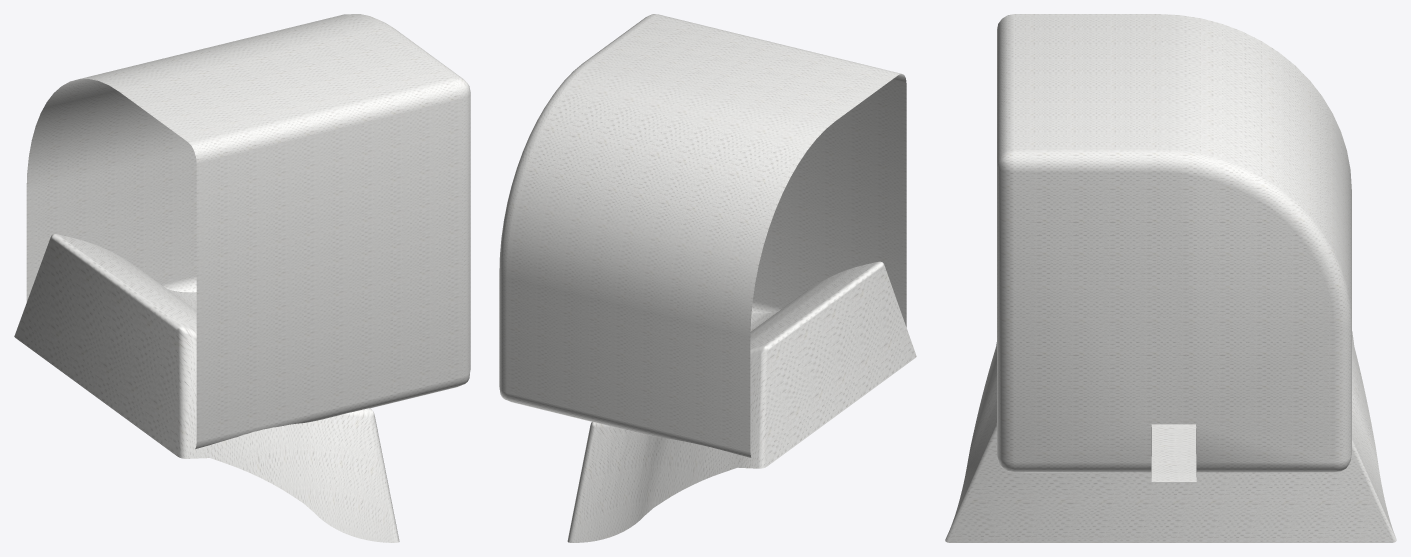
File: Napkin_Rm.fbx
3 views of the same model, side by side, from view 1: azimuth 30°, elevation 25°; view 2: azimuth 150°, elevation 25°; view 3: azimuth 270°, elevation 25° (orthographic). The views are drawn at different scales.
Parts seen in each view (by area): view 1: P_Napkin_Rm; view 2: P_Napkin_Rm; view 3: P_Napkin_Rm.
Boxes of the visible parts, x1,y1,x2,y2 form: P_Napkin_Rm: [14, 14, 470, 542]; P_Napkin_Rm: [499, 14, 916, 542]; P_Napkin_Rm: [945, 14, 1396, 542].
Size of the model in its own units: 28.51 by 37.83 by 35.37.
